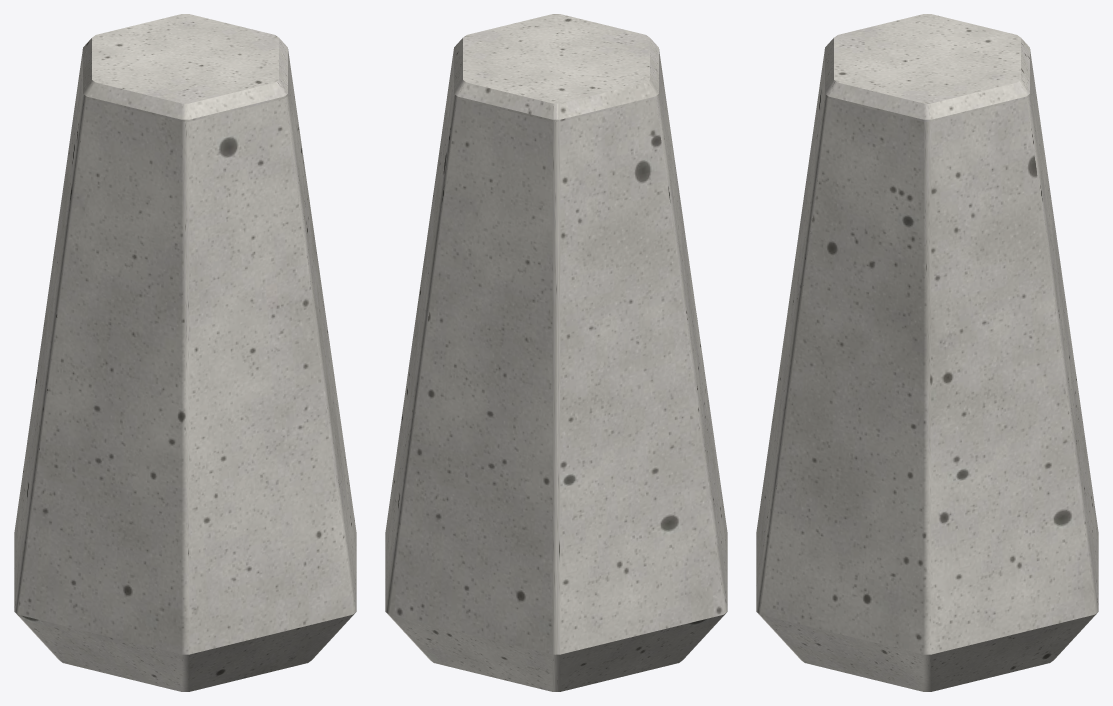
Rendered from pawn-white.glb.
3 renders of one model, left to right at view 1: azimuth 30°, elevation 25°; view 2: azimuth 150°, elevation 25°; view 3: azimuth 270°, elevation 25°, orthographic.
Parts seen in each view (by area): view 1: HEXALITH_white_pawn; view 2: HEXALITH_white_pawn; view 3: HEXALITH_white_pawn.
Boxes of the visible parts, bbox=[...] form: HEXALITH_white_pawn: bbox=[14, 14, 356, 691]; HEXALITH_white_pawn: bbox=[385, 14, 727, 691]; HEXALITH_white_pawn: bbox=[756, 14, 1098, 691].
Size of the model in its own units: 0.5442 by 0.88 by 0.4767.
1 material, 1 textured.
